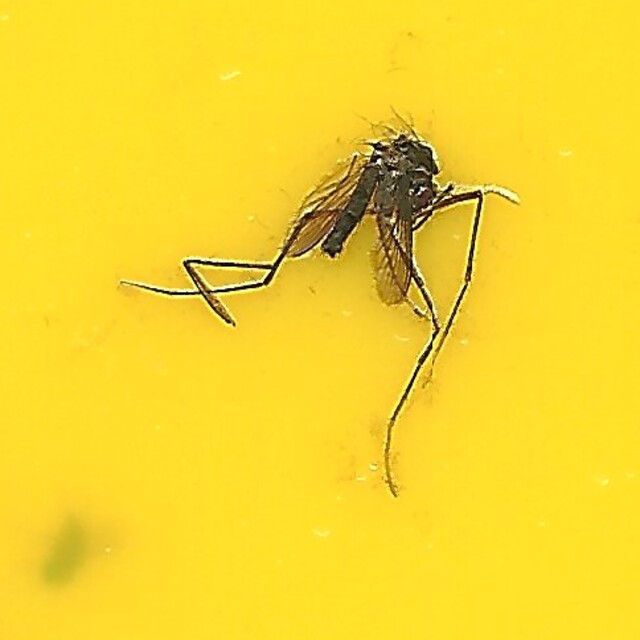Nematocera: (132, 135, 508, 505)
